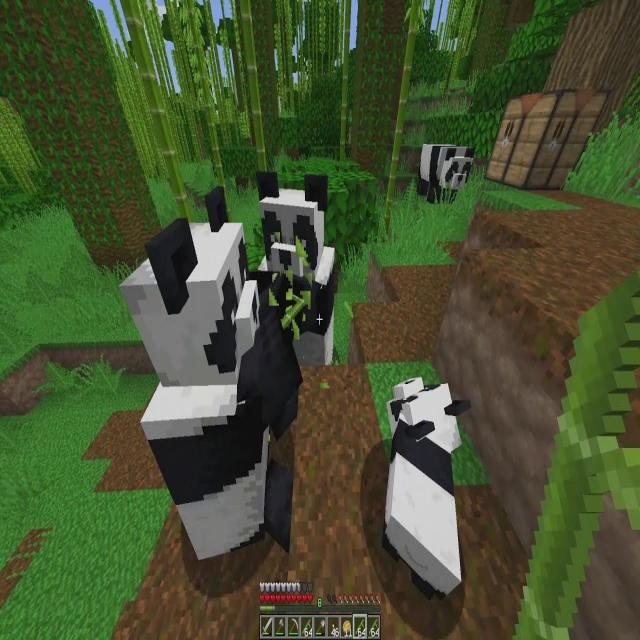Panda: (117, 182, 305, 568), (381, 371, 473, 608), (256, 164, 341, 385), (417, 140, 477, 210)
